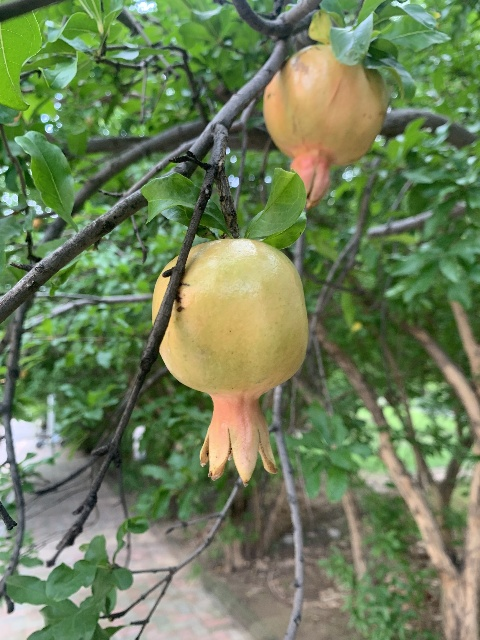mid-growth: (153, 238, 309, 484), (262, 44, 388, 210)
